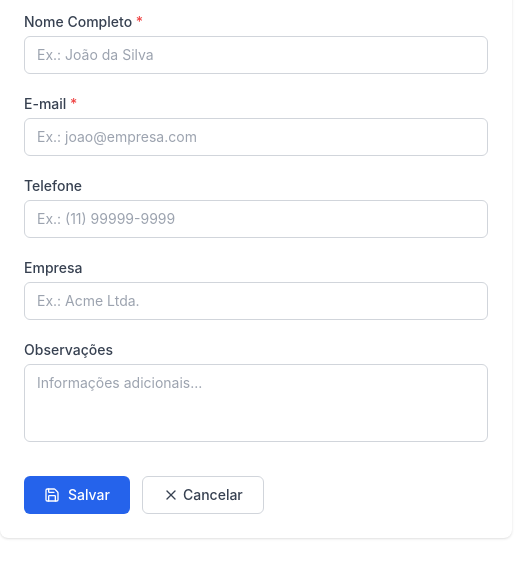
Test case: ContatoForm — validação no submit › exibe erro de formato de e-mail inválido
Type "João" into the field labelled "Nome Completo *".
click(256, 55); type("João")  # box [24, 36, 488, 74]
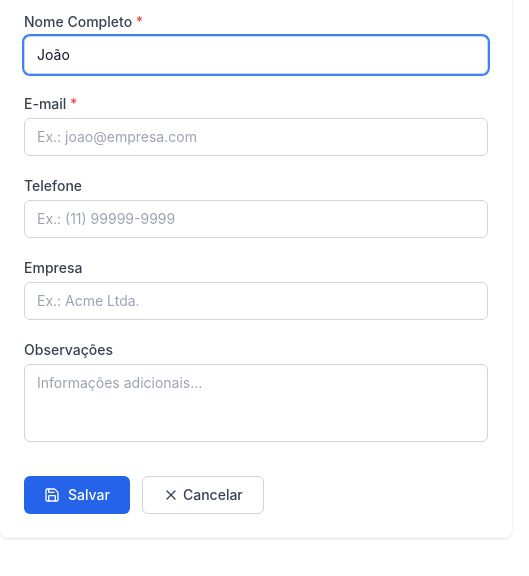
Type "invalido" into the field labelled "E-mail *".
click(256, 137); type("invalido")  # box [24, 118, 488, 156]
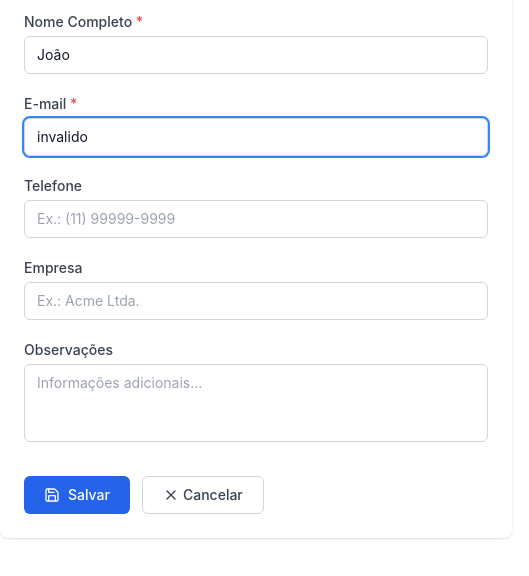
Click the button "Salvar".
click(77, 495)  # box [24, 476, 130, 514]
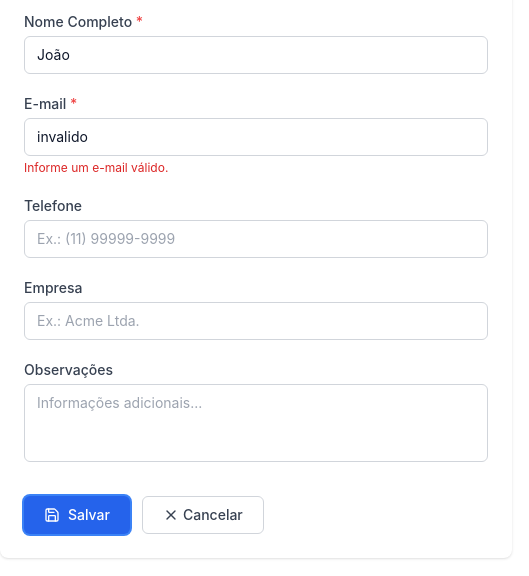
Expected: the text "Informe um e-mail válido." is shown, [24, 160, 168, 175]
